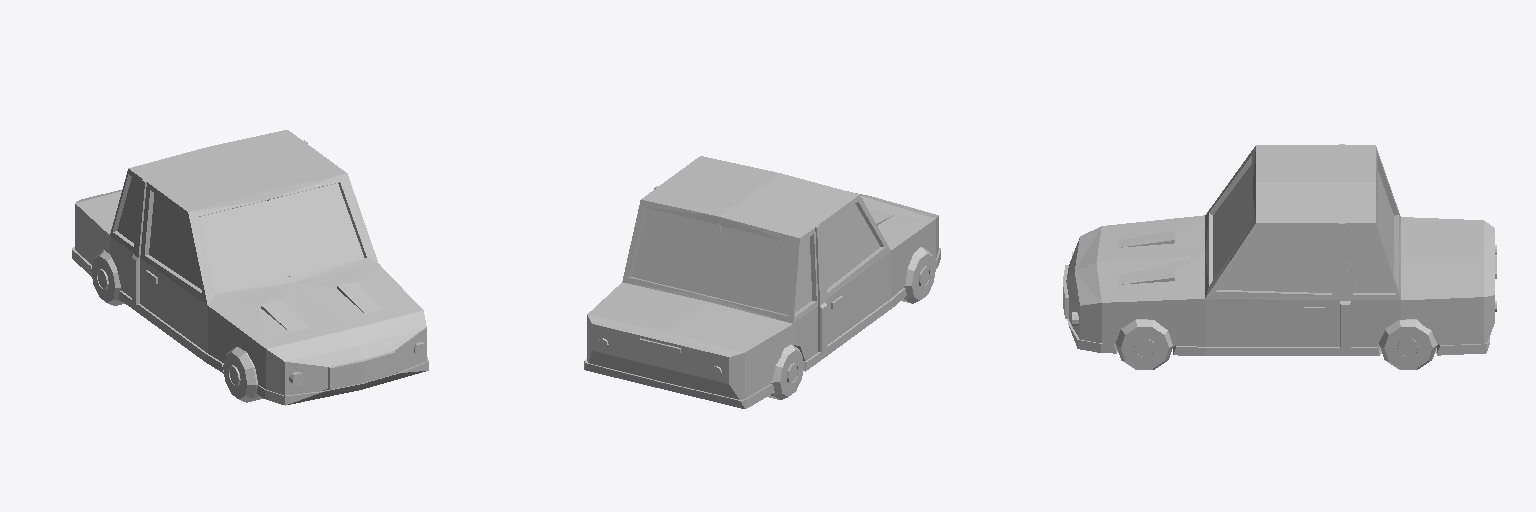
Rendered from BasicCar.obj.
3 renders of one model, left to right at view 1: azimuth 30°, elevation 25°; view 2: azimuth 150°, elevation 25°; view 3: azimuth 270°, elevation 25°, orthographic.
Size of the model in its own units: 2.01 by 1.58 by 4.2.